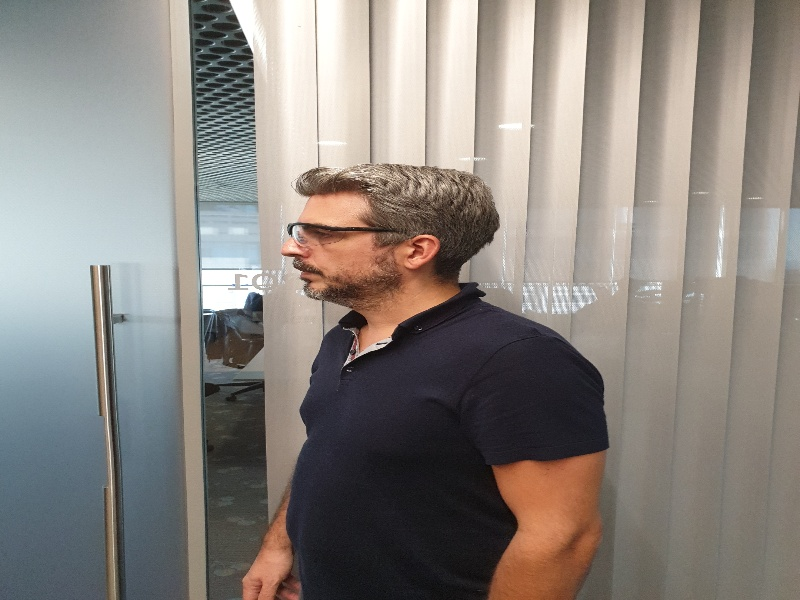Gozluk: (288, 222, 397, 246)
